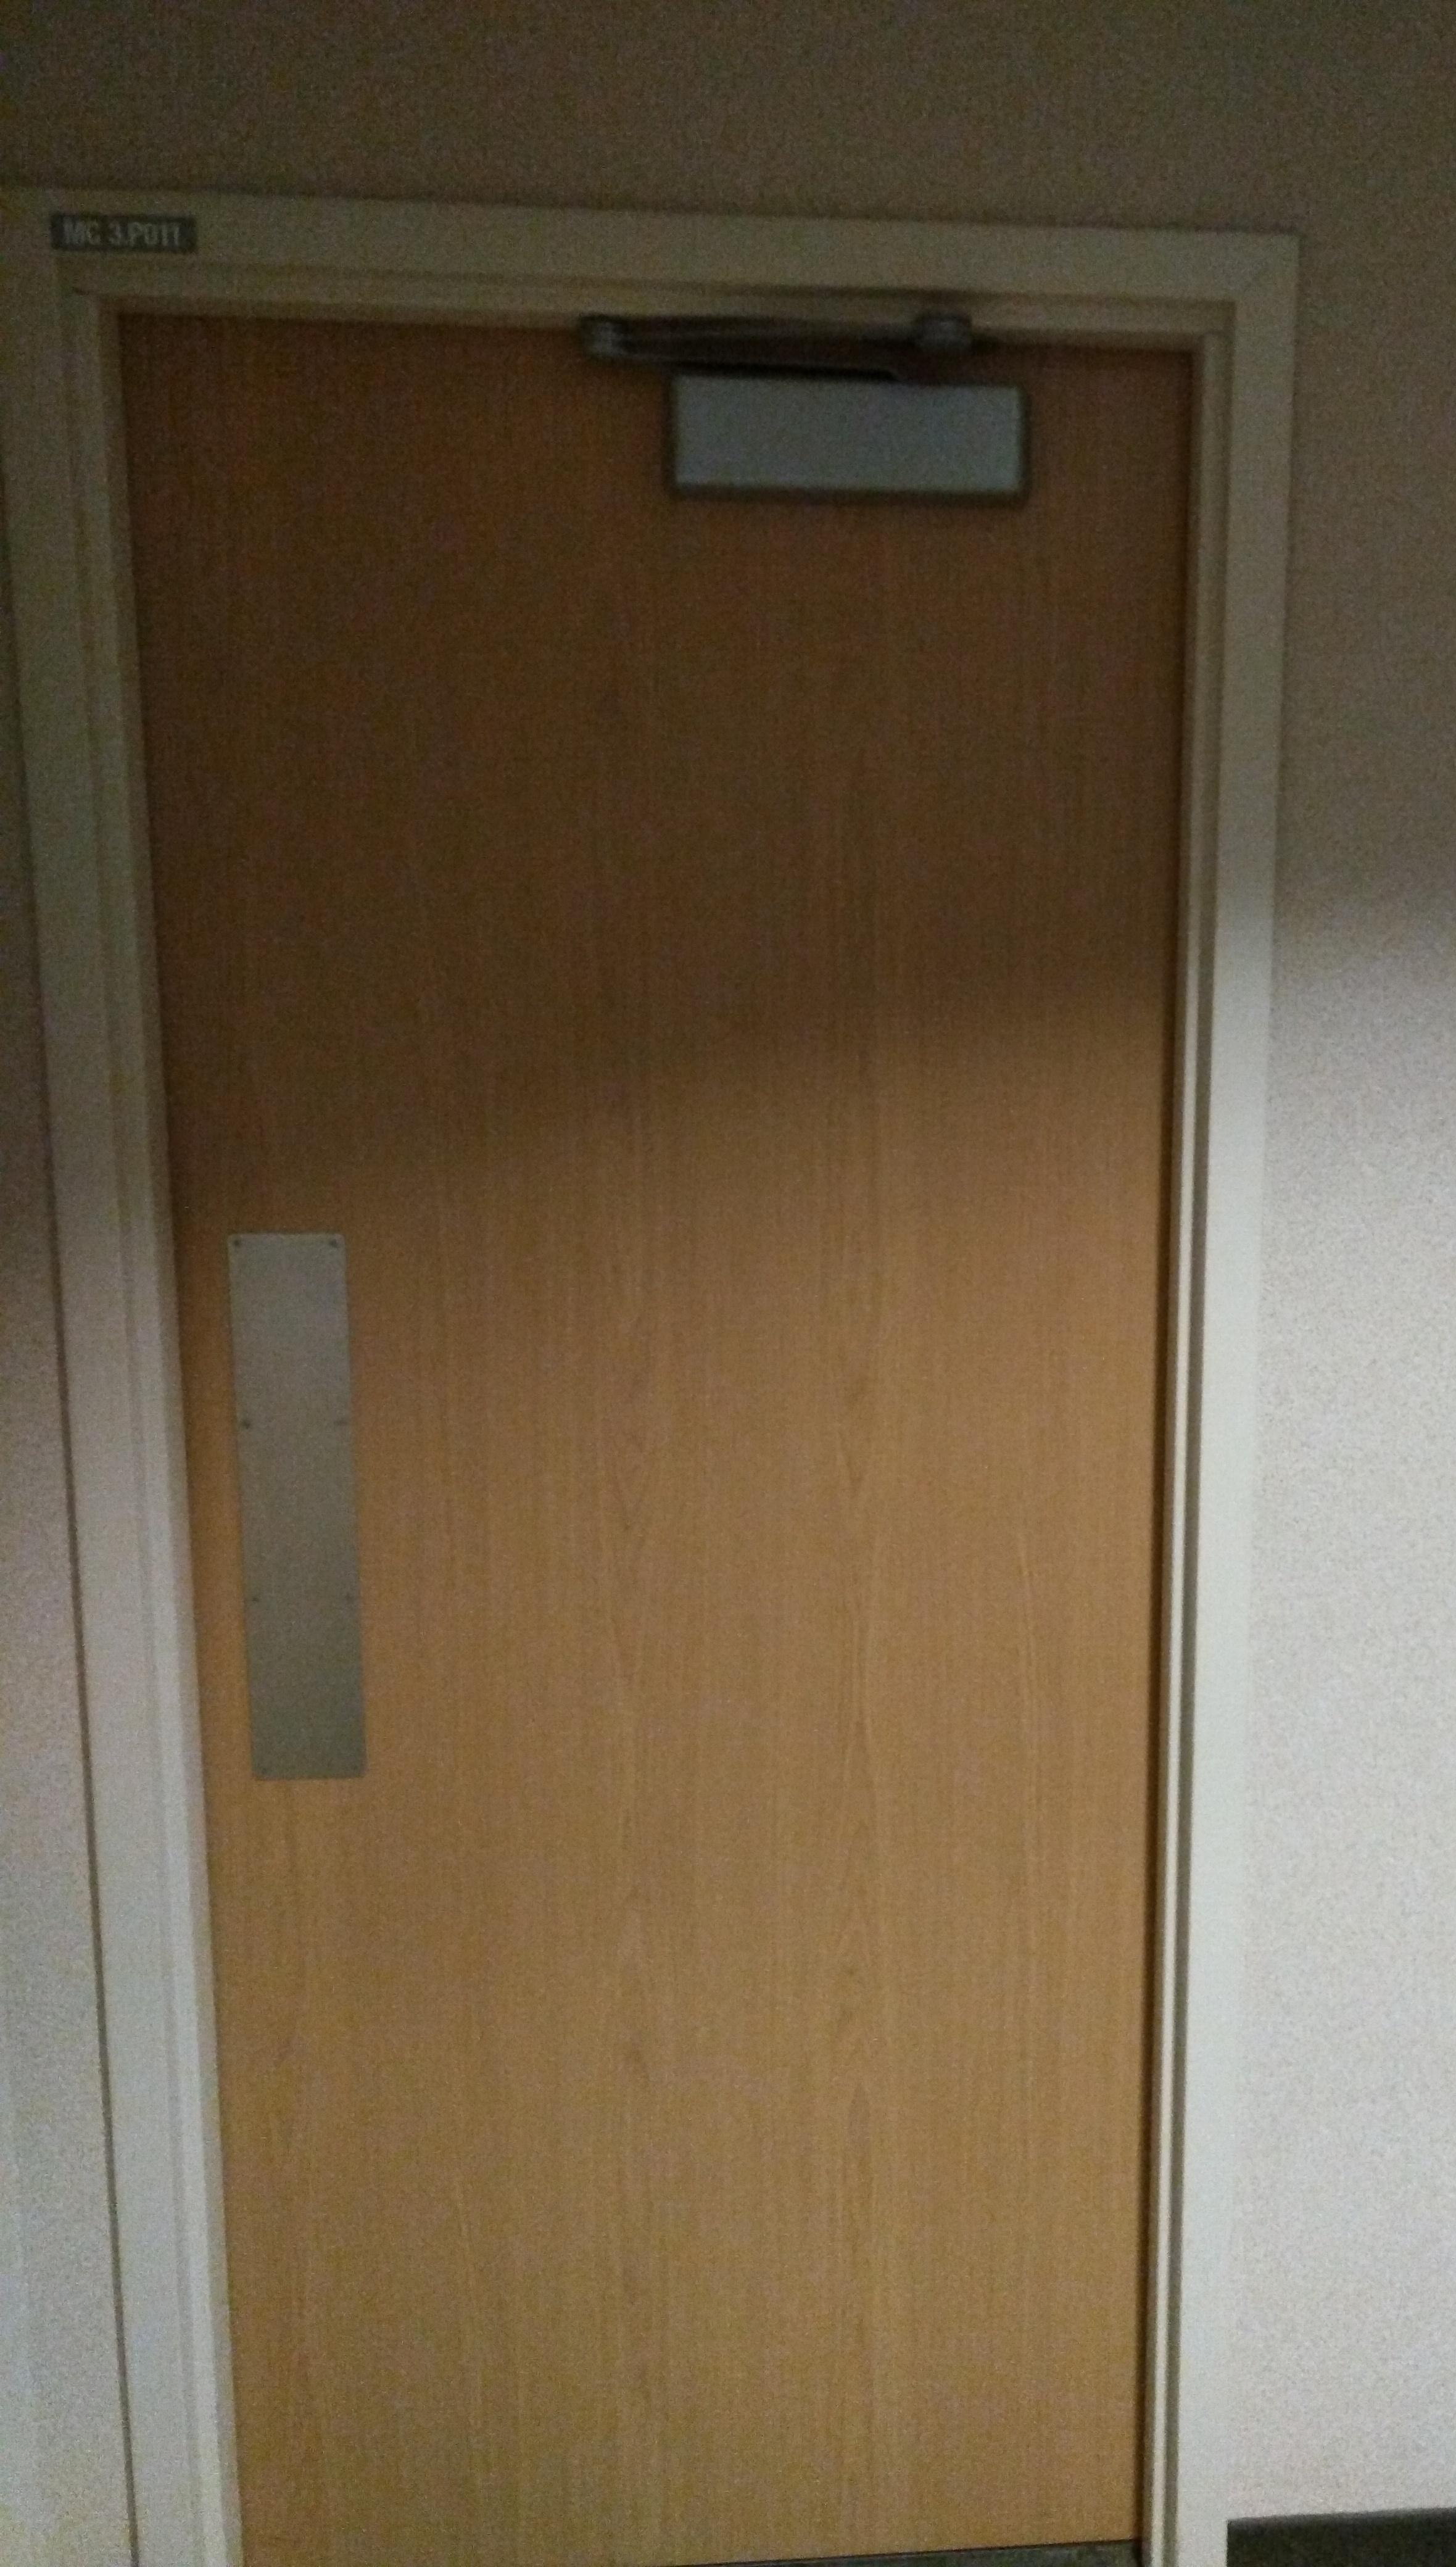door: (12, 196, 1304, 2567)
